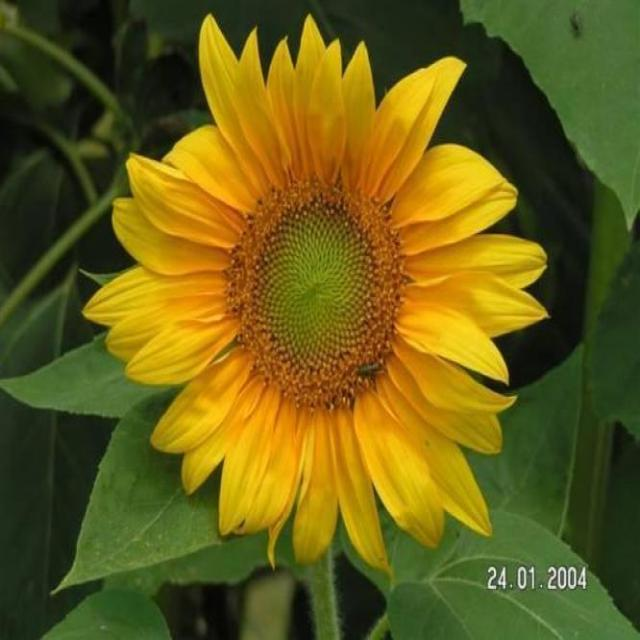sunflower: (76, 8, 556, 592)
